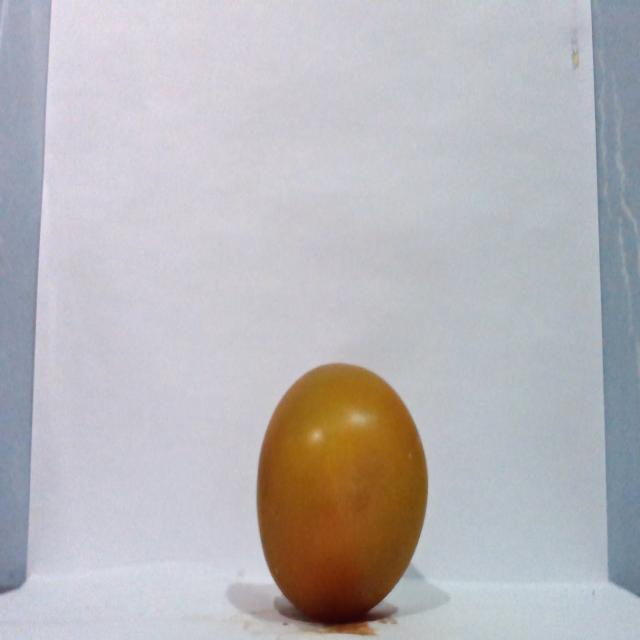Red: (254, 360, 429, 623)
